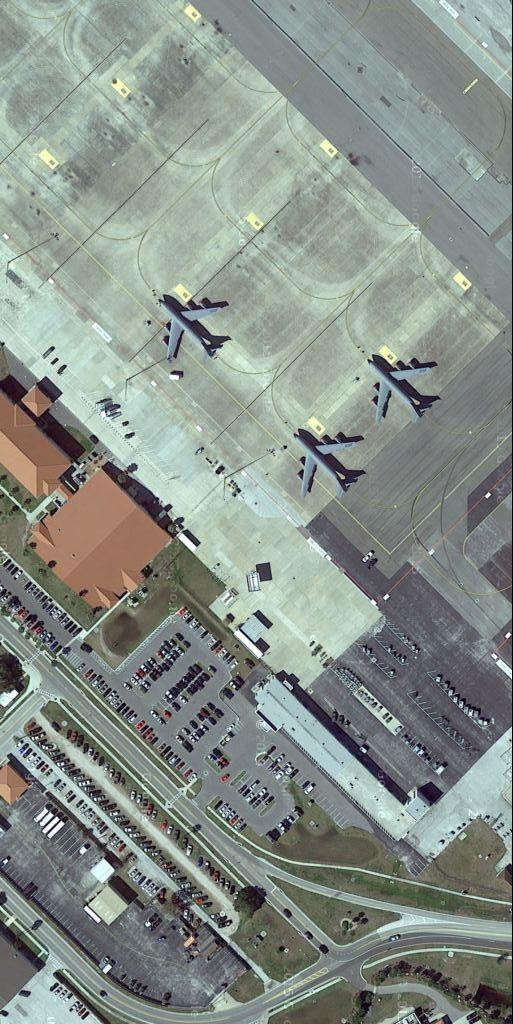KC-135: (360, 351, 447, 428), (285, 428, 371, 502), (154, 295, 237, 366)
